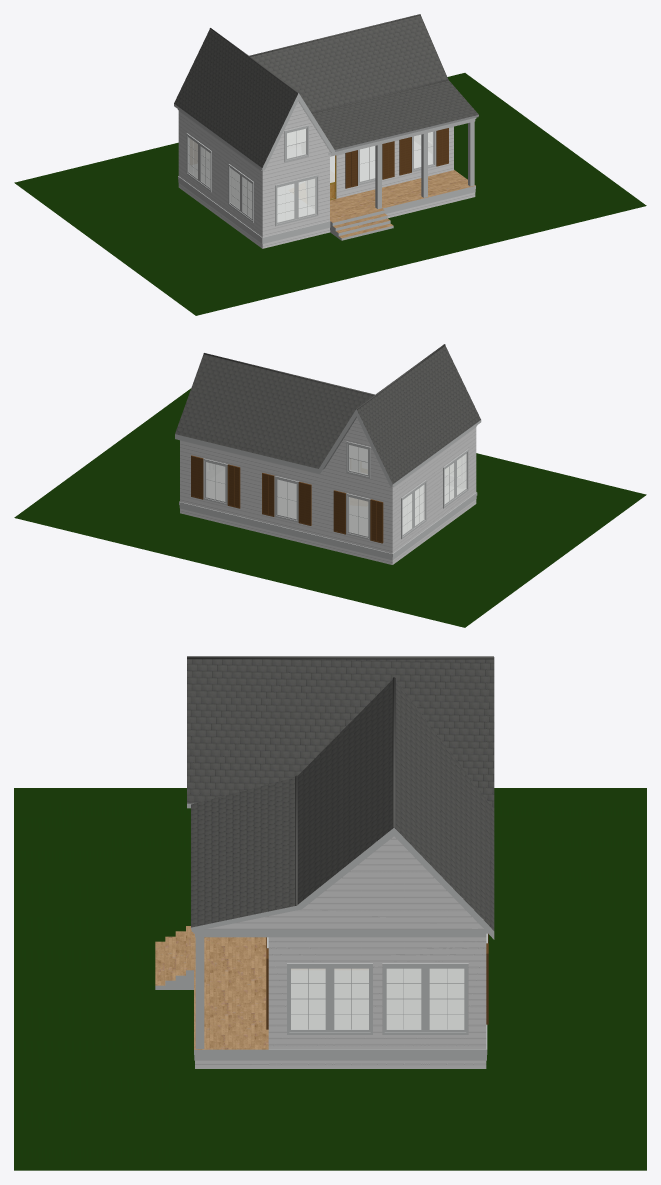
The model's file is hut-transformed.glb.
3 views of the same model, one above another, from view 1: azimuth 30°, elevation 25°; view 2: azimuth 150°, elevation 25°; view 3: azimuth 270°, elevation 25° (orthographic). The views are drawn at different scales.
Visible parts, largest first — view 1: Object_2, Object_12, Object_7, Object_10, Object_11, Object_8; view 2: Object_2, Object_12, Object_7, Object_10, Object_8; view 3: Object_2, Object_12, Object_7, Object_11, Object_10.
Part boxes in pixels (x1=…): Object_2: x1=14, y1=73, x2=646, y2=315; Object_12: x1=174, y1=14, x2=478, y2=167; Object_7: x1=178, y1=101, x2=475, y2=248; Object_10: x1=188, y1=128, x2=433, y2=222; Object_11: x1=330, y1=170, x2=475, y2=238; Object_8: x1=346, y1=128, x2=447, y2=187; Object_2: x1=14, y1=388, x2=646, y2=627; Object_12: x1=175, y1=344, x2=480, y2=484; Object_7: x1=180, y1=418, x2=476, y2=564; Object_10: x1=206, y1=445, x2=466, y2=536; Object_8: x1=191, y1=457, x2=381, y2=542; Object_2: x1=14, y1=788, x2=646, y2=1170; Object_12: x1=187, y1=656, x2=494, y2=930; Object_7: x1=195, y1=836, x2=486, y2=1068; Object_11: x1=155, y1=926, x2=268, y2=1049; Object_10: x1=291, y1=968, x2=464, y2=1029.
Size of the model in its own units: 21.43 by 7.92 by 14.97.
8 materials, 8 textured.
